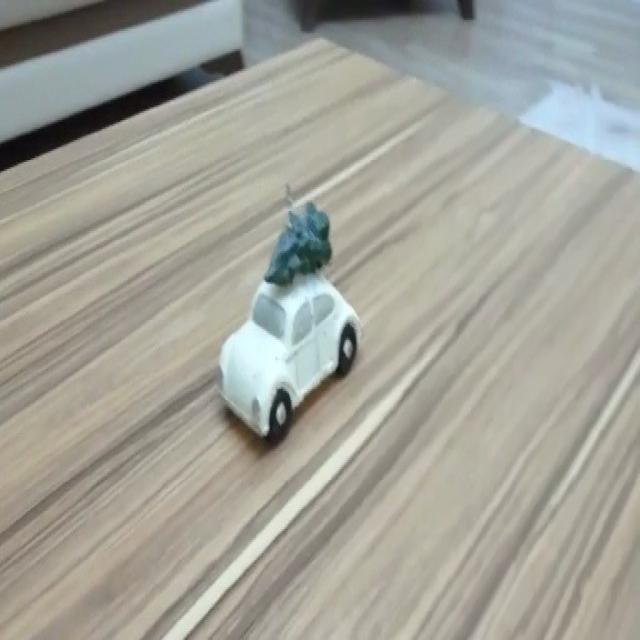car: (217, 278, 363, 431)
